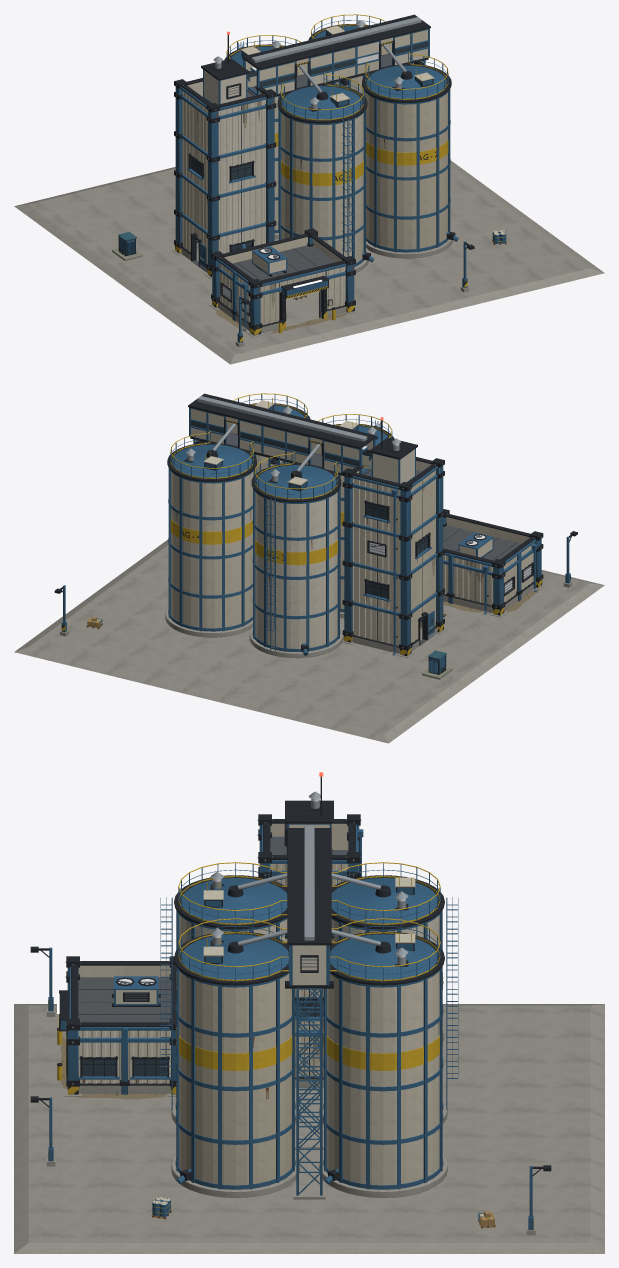
File: silo_cluster.glb
3 views of the same model, one above another, from view 1: azimuth 30°, elevation 25°; view 2: azimuth 150°, elevation 25°; view 3: azimuth 270°, elevation 25° (orthographic). The views are drawn at different scales.
Parts seen in each view (by area): view 1: silo_cluster.001; view 2: silo_cluster.001; view 3: silo_cluster.001.
Part boxes in pixels (box(x1,y1,x2,y2)): silo_cluster.001: box(14, 14, 604, 364); silo_cluster.001: box(14, 393, 604, 743); silo_cluster.001: box(14, 772, 604, 1253).
Size of what is drawn, in the model's own units: 40 by 22.76 by 40.
81 materials, 79 textured.
